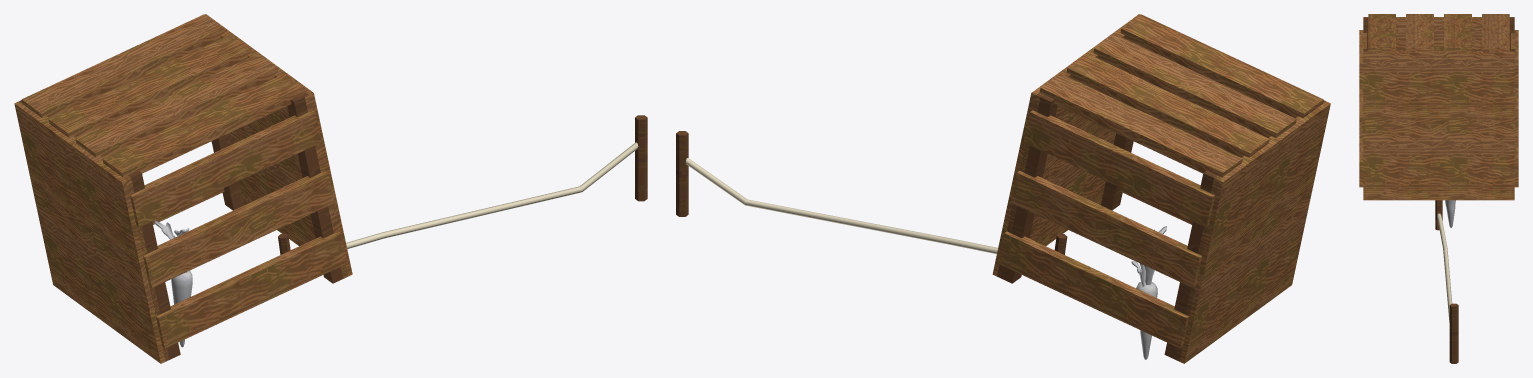
Rendered from trap.glb.
3 views of the same model, side by side, from view 1: azimuth 30°, elevation 25°; view 2: azimuth 150°, elevation 25°; view 3: azimuth 270°, elevation 25° (orthographic). The views are drawn at different scales.
Visible parts, largest first — view 1: box; view 2: box; view 3: box.
Part boxes in pixels (<box>): box: <box>14,14,647,363</box>; box: <box>676,14,1330,363</box>; box: <box>1359,14,1518,363</box>.
Size of the model in its own units: 1.07 by 0.5 by 0.3568.
4 materials, 3 textured.
